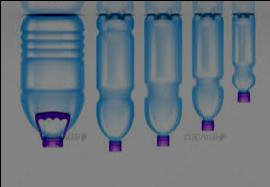Plastic: (17, 10, 83, 148)
